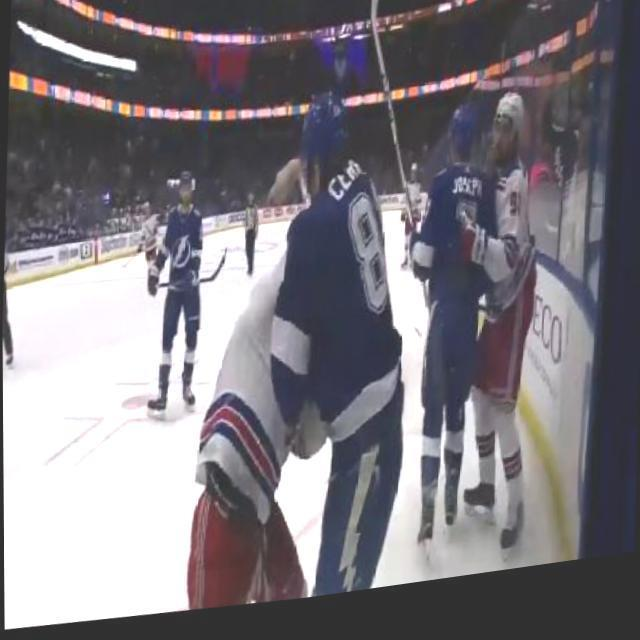fight: (183, 95, 422, 620)
